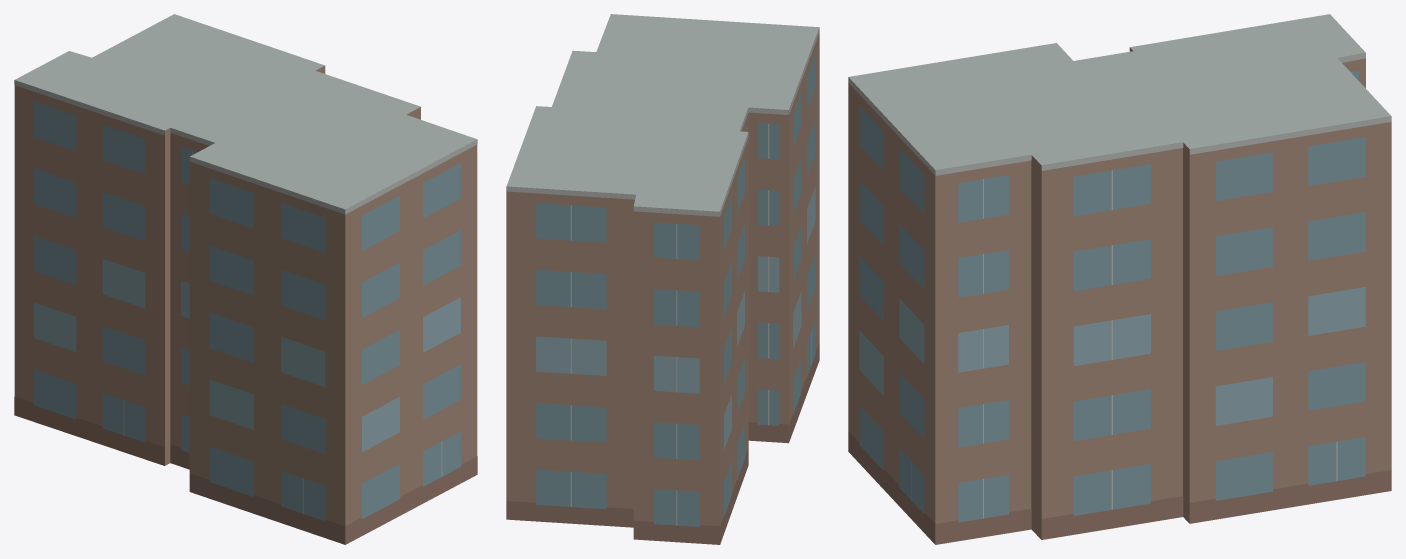
File: survey-upis-32755973.glb
3 renders of one model, left to right at view 1: azimuth 30°, elevation 25°; view 2: azimuth 150°, elevation 25°; view 3: azimuth 270°, elevation 25°, orthographic. The views are drawn at different scales.
Parts seen in each view (by area): view 1: survey-upis-32755973.tmp; view 2: survey-upis-32755973.tmp; view 3: survey-upis-32755973.tmp.
Part boxes in pixels (x1,y1,x2,y2): survey-upis-32755973.tmp: (14, 14, 477, 544); survey-upis-32755973.tmp: (506, 14, 819, 544); survey-upis-32755973.tmp: (848, 14, 1391, 544).
Size of the model in its own units: 14.4 by 16.1 by 21.16.
